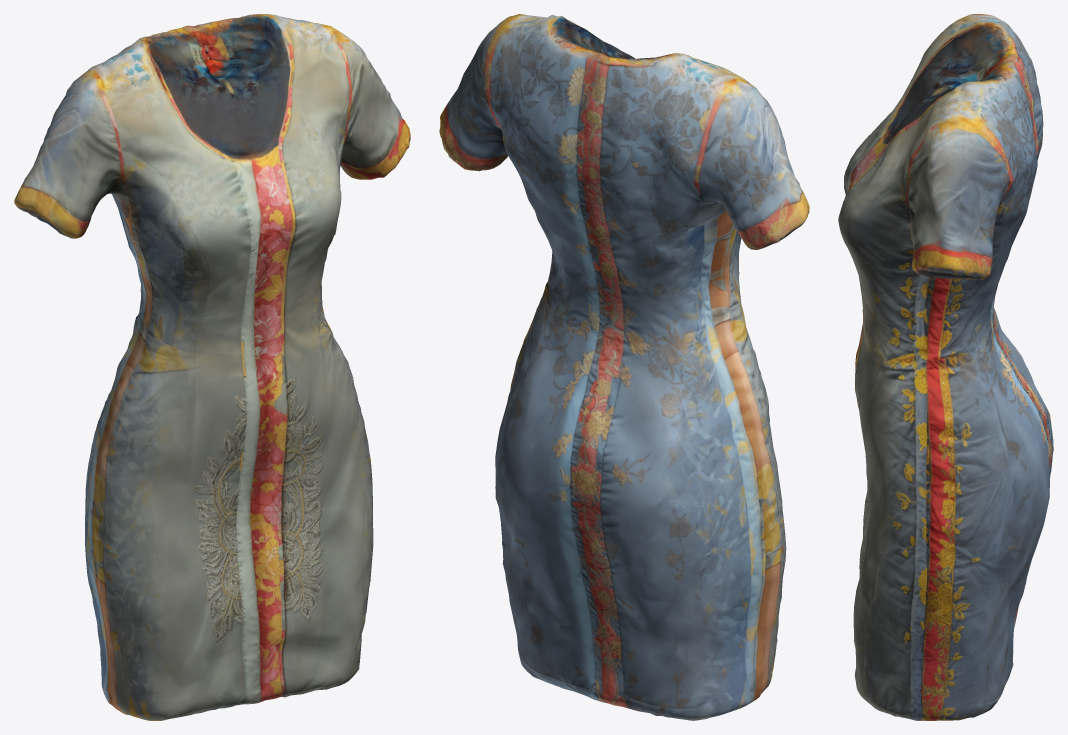
Rendered from women_dress_with_full_0727181532_refine.fbx.
3 renders of one model, left to right at view 1: azimuth 30°, elevation 25°; view 2: azimuth 150°, elevation 25°; view 3: azimuth 270°, elevation 25°, orthographic. The views are drawn at different scales.
Parts seen in each view (by area): view 1: Mesh_0; view 2: Mesh_0; view 3: Mesh_0.
Boxes of the visible parts, left/top/right/bottom form: Mesh_0: left=14, top=14, right=410, bottom=720; Mesh_0: left=439, top=14, right=809, bottom=720; Mesh_0: left=838, top=14, right=1053, bottom=720.
Size of the model in its own units: 72.31 by 120 by 37.
Materials: 1 (1 with a texture image).
